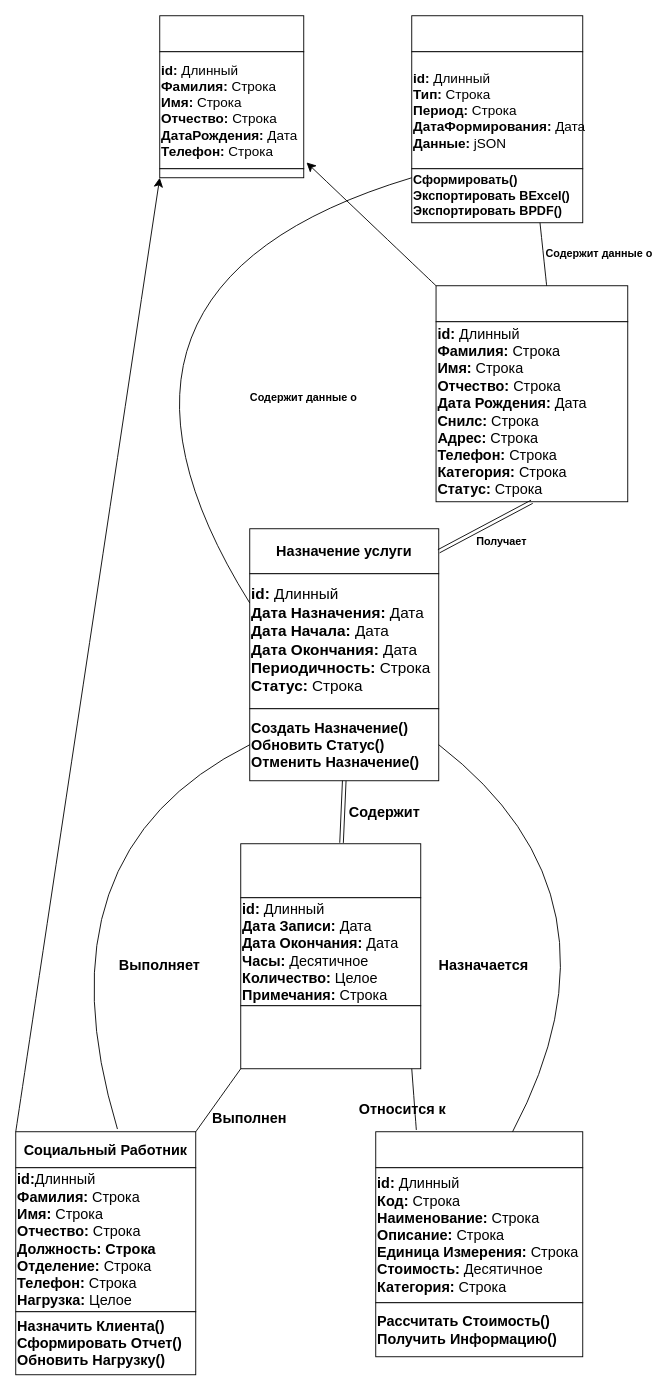
Image size: 671x1391. Some labels were removed from this diagram. Here are the shapes that lost their labels. From the top down, the centre of each, then its label:
At (231,33): "Человек".
At (497,33): "Отчет".
At (531,303): "Клиент".
At (330,870): "Запись Табеля".
At (330,1037): "Создать Запись() Проверить() Рассчитать Итог()".
At (479,1149): "Услуга".
